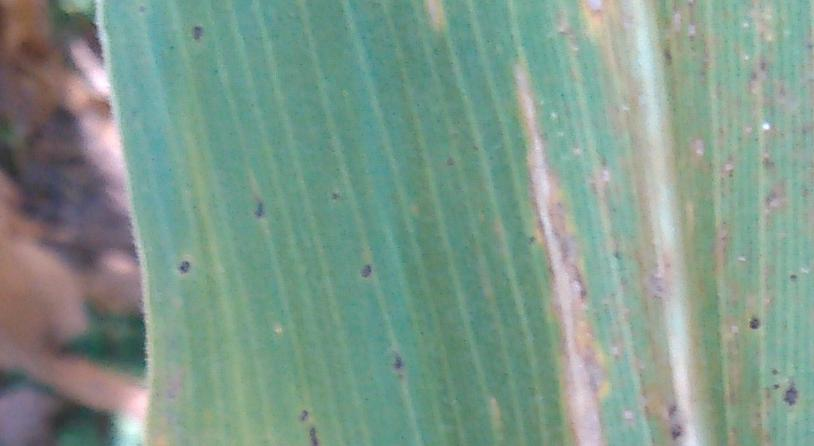tarspot: (660, 44, 676, 69), (785, 379, 798, 409), (746, 311, 762, 333), (306, 421, 320, 446), (251, 199, 267, 220), (174, 256, 191, 275), (190, 22, 205, 43), (359, 258, 373, 280), (663, 401, 681, 418), (295, 405, 310, 424), (392, 351, 404, 374), (786, 268, 801, 283), (329, 187, 343, 203), (442, 153, 456, 169), (135, 1, 149, 15), (768, 378, 782, 392), (526, 233, 538, 249), (670, 426, 681, 440), (770, 365, 781, 379)
